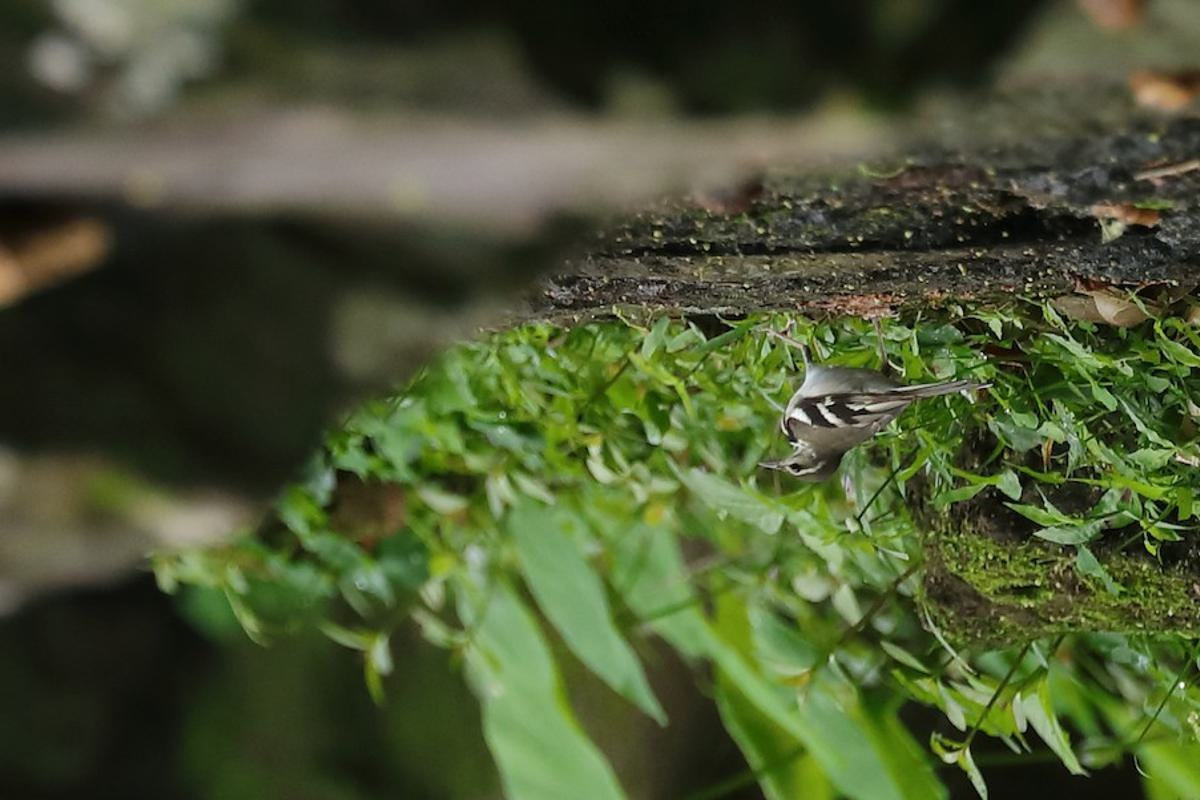wagtail: (777, 328, 1000, 502)
